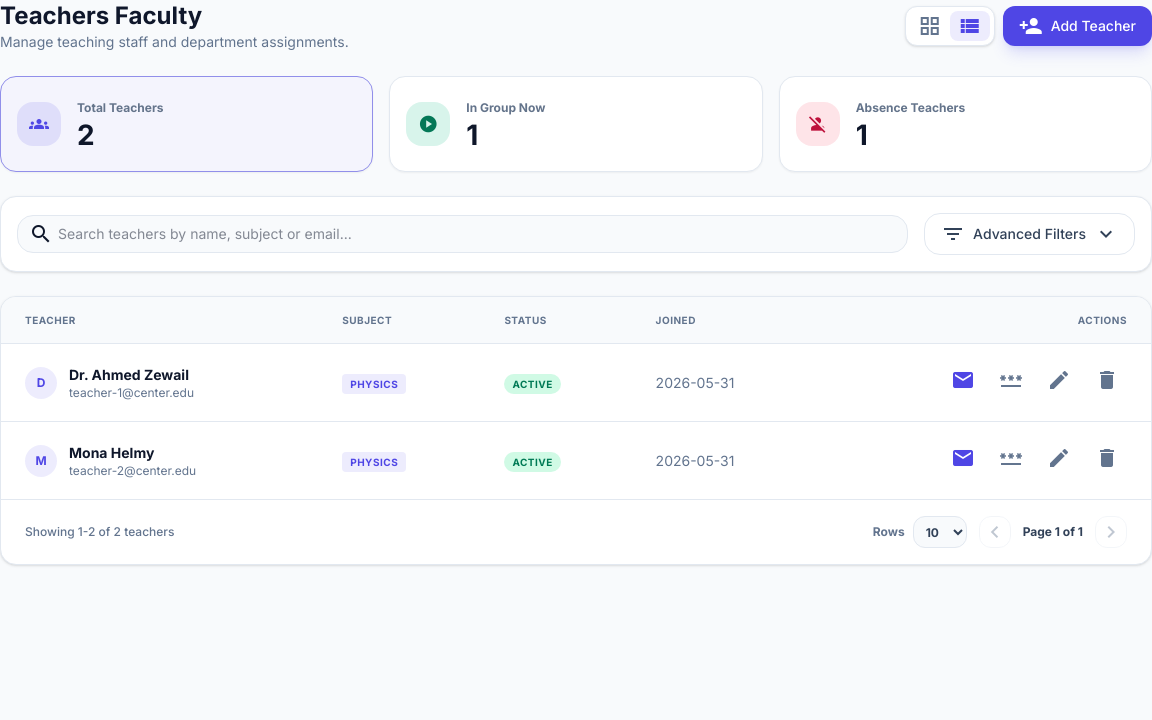
it: TenantTeachersComponent › shows a dialog when a teacher tenant at its limit clicks Add Teacher
This screenshot has width=1152, height=720.
Click the button "Add Teacher": x=1077, y=26 1003,6 -> 1151,46
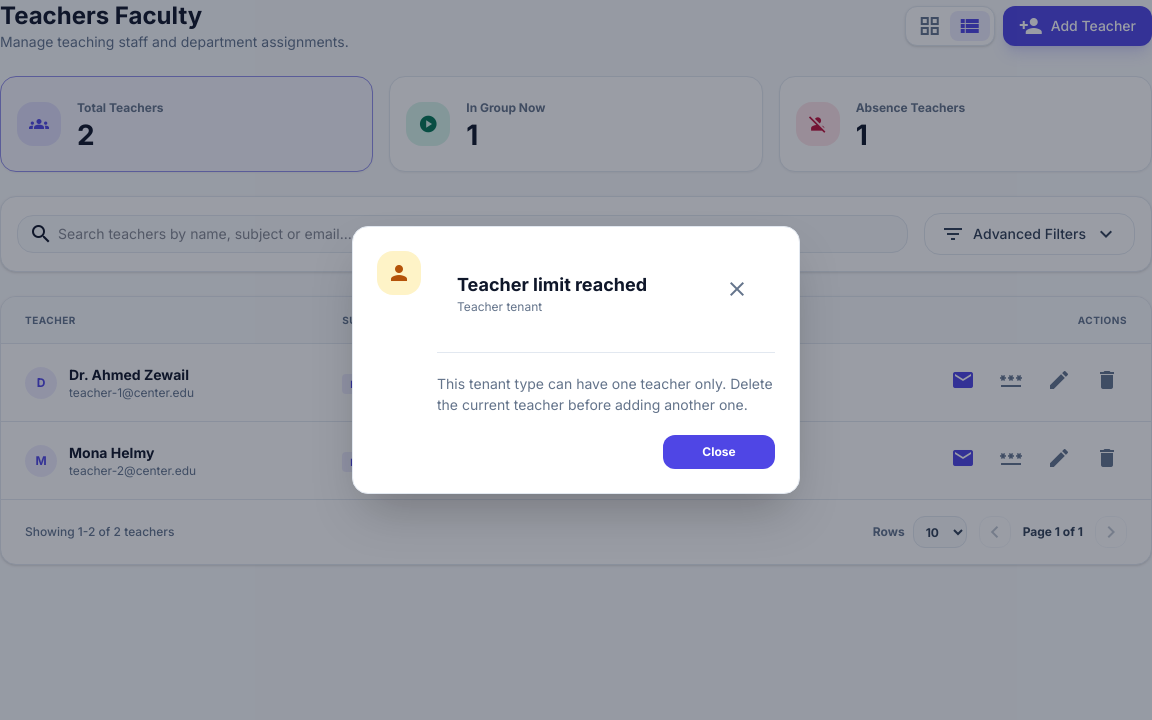
Expected: the dialog is shown, 352,226 -> 800,494
Expected: the dialog shows "Teacher limit reached", 457,274 -> 647,295
Expected: the dialog shows "This tenant type can have one teacher only.", 437,375 -> 773,413
